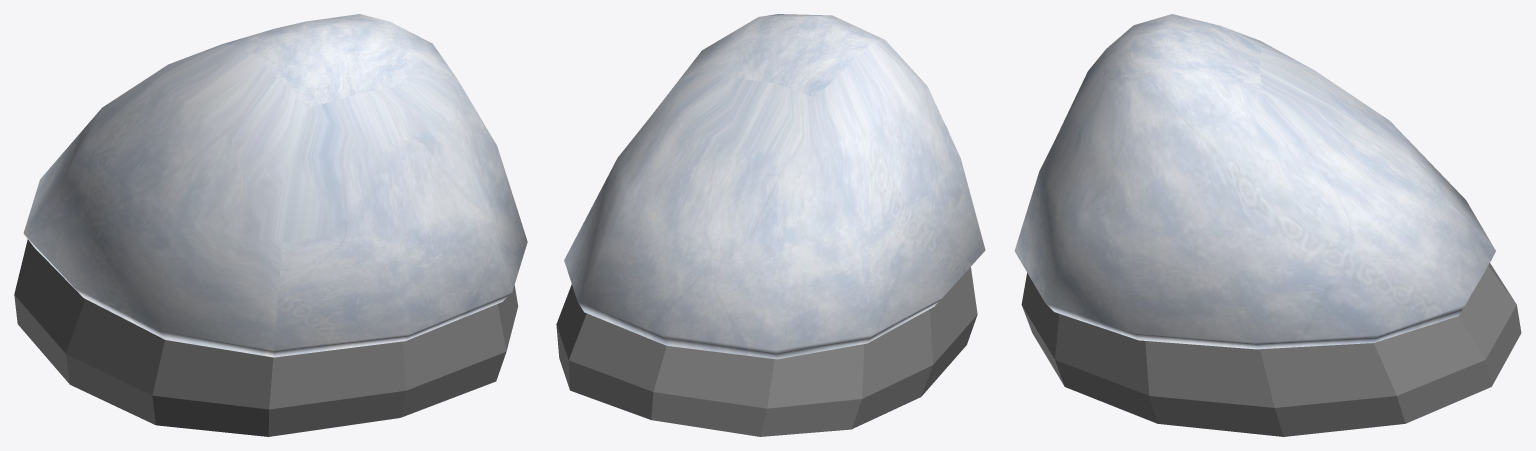
Rendered from Stone 2.glb.
The picture shows the model from 3 angles, left to right: view 1: azimuth 30°, elevation 25°; view 2: azimuth 150°, elevation 25°; view 3: azimuth 270°, elevation 25°; orthographic projection. The views are drawn at different scales.
Visible parts, largest first — view 1: Cube; view 2: Cube; view 3: Cube.
Boxes of the visible parts, x1,y1,x2,y2 form: Cube: (14, 14, 527, 436); Cube: (556, 14, 985, 436); Cube: (1014, 14, 1521, 436).
Size of the model in its own units: 4.04 by 3.5 by 4.91.
Materials: 2 (1 with a texture image).
